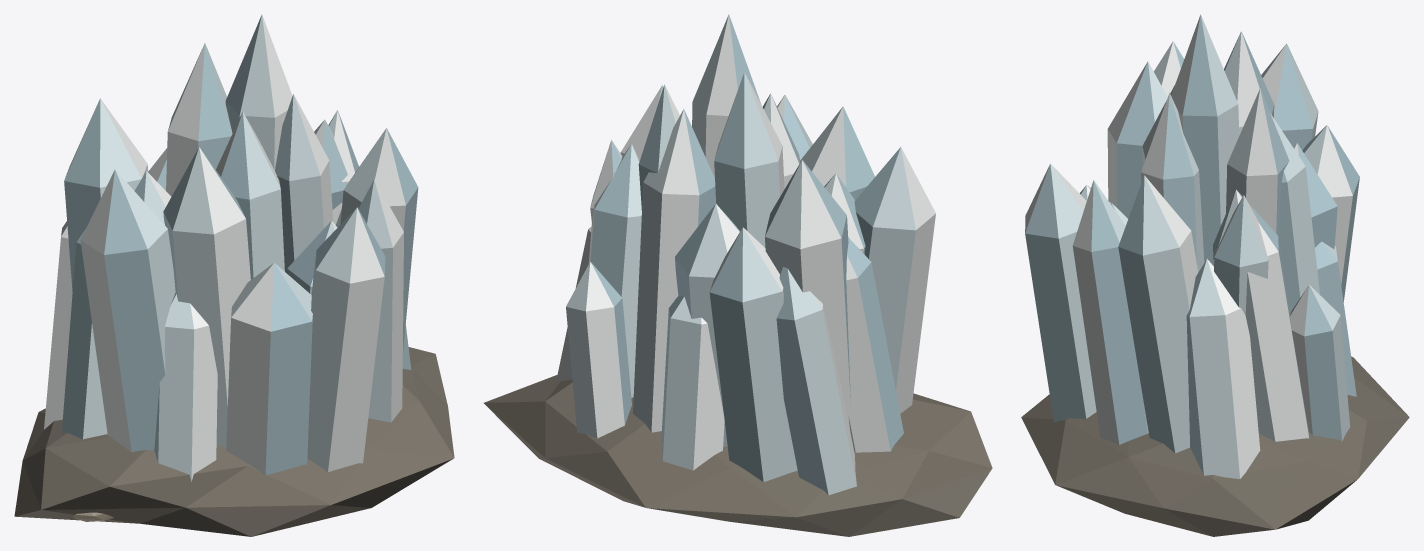
The model's file is QuartzCluster.fbx.
3 views of the same model, side by side, from view 1: azimuth 30°, elevation 25°; view 2: azimuth 150°, elevation 25°; view 3: azimuth 270°, elevation 25° (orthographic).
Visible parts, largest first — view 1: QuartzCluster_QuartzPearl, QuartzCluster_MineralMatrix; view 2: QuartzCluster_QuartzPearl, QuartzCluster_MineralMatrix; view 3: QuartzCluster_QuartzPearl, QuartzCluster_MineralMatrix.
Part boxes in pixels (x1=…): QuartzCluster_QuartzPearl: x1=44, y1=14, x2=418, y2=481; QuartzCluster_MineralMatrix: x1=14, y1=347, x2=454, y2=536; QuartzCluster_QuartzPearl: x1=556, y1=14, x2=935, y2=495; QuartzCluster_MineralMatrix: x1=484, y1=375, x2=992, y2=536; QuartzCluster_QuartzPearl: x1=1025, y1=14, x2=1359, y2=478; QuartzCluster_MineralMatrix: x1=1021, y1=356, x2=1409, y2=536.
Bounding box in the file's own units: 1 × 0.9984 × 0.7477.
